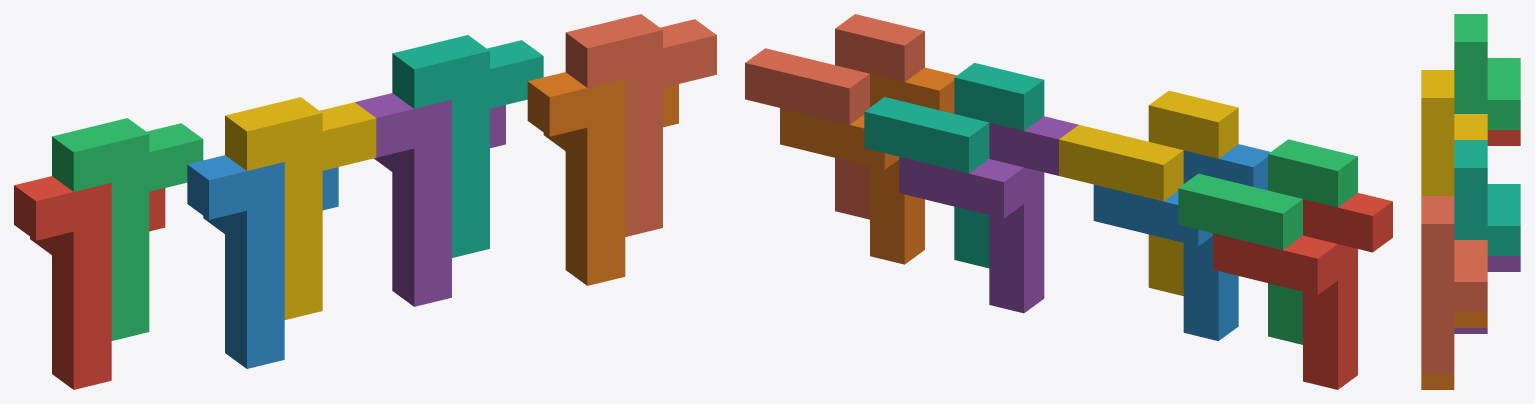
The model's file is tiling.obj.
3 renders of one model, left to right at view 1: azimuth 30°, elevation 25°; view 2: azimuth 150°, elevation 25°; view 3: azimuth 270°, elevation 25°, orthographic. The views are drawn at different scales.
Visible parts, largest first — view 1: copy_1_domain_6, copy_1_domain_1, copy_1_domain_2, copy_1_domain_4, copy_1_domain_8, copy_1_domain_3, copy_1_domain_7, copy_1_domain_5; view 2: copy_1_domain_1, copy_1_domain_5, copy_1_domain_7, copy_1_domain_4, copy_1_domain_3, copy_1_domain_8, copy_1_domain_2, copy_1_domain_6; view 3: copy_1_domain_8, copy_1_domain_3, copy_1_domain_7, copy_1_domain_4, copy_1_domain_6, copy_1_domain_5, copy_1_domain_1.
Boxes of the visible parts, <box> form: copy_1_domain_6: <box>527,72,678,285</box>; copy_1_domain_1: <box>14,176,165,389</box>; copy_1_domain_2: <box>187,155,338,368</box>; copy_1_domain_4: <box>225,97,376,319</box>; copy_1_domain_8: <box>565,14,716,236</box>; copy_1_domain_3: <box>52,118,203,340</box>; copy_1_domain_7: <box>392,35,543,257</box>; copy_1_domain_5: <box>355,93,505,306</box>; copy_1_domain_1: <box>1213,193,1392,389</box>; copy_1_domain_5: <box>899,116,1078,313</box>; copy_1_domain_7: <box>864,63,1044,268</box>; copy_1_domain_4: <box>1059,90,1238,295</box>; copy_1_domain_3: <box>1178,139,1357,344</box>; copy_1_domain_8: <box>745,14,924,219</box>; copy_1_domain_2: <box>1093,144,1270,340</box>; copy_1_domain_6: <box>780,67,956,264</box>; copy_1_domain_8: <box>1421,196,1487,373</box>; copy_1_domain_3: <box>1454,14,1520,129</box>; copy_1_domain_7: <box>1454,140,1520,255</box>; copy_1_domain_4: <box>1421,70,1487,195</box>; copy_1_domain_6: <box>1421,312,1487,389</box>; copy_1_domain_5: <box>1454,256,1520,333</box>; copy_1_domain_1: <box>1487,130,1520,145</box>.
Size of the model in its own units: 18 by 6 by 3.
